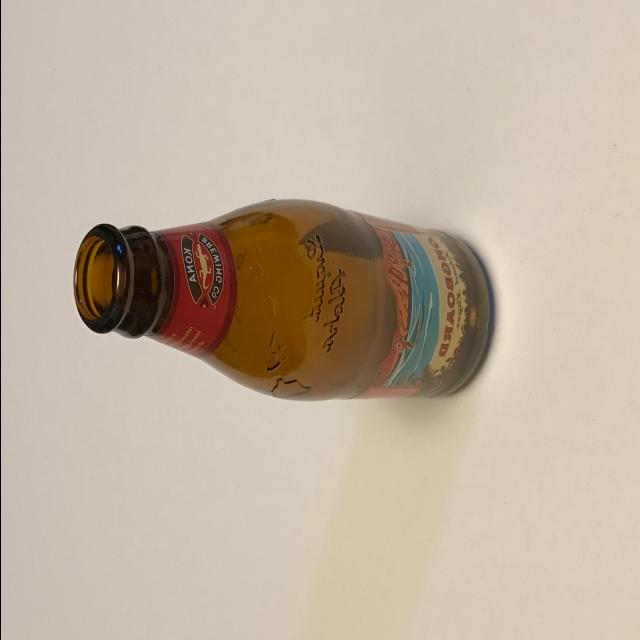glass: (69, 182, 511, 430)
